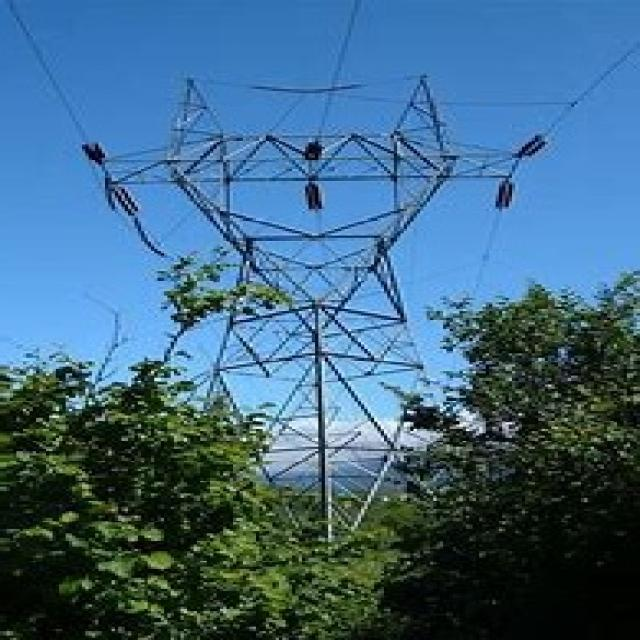utility poles: (363, 294, 572, 472), (95, 256, 292, 426)
